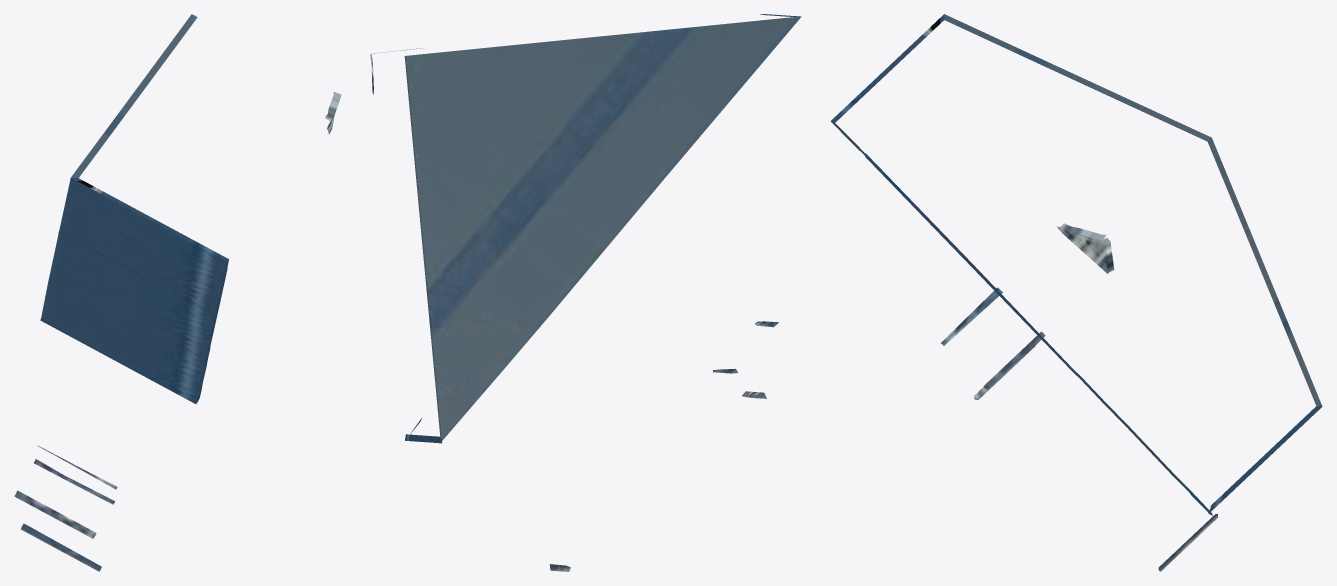
Rendered from masp_tile_6.glb.
The picture shows the model from 3 angles, left to right: view 1: azimuth 30°, elevation 25°; view 2: azimuth 150°, elevation 25°; view 3: azimuth 270°, elevation 25°; orthographic projection. The views are drawn at different scales.
Size of the model in its own units: 28.9 by 38.78 by 35.18.
Materials: 1 (1 with a texture image).
